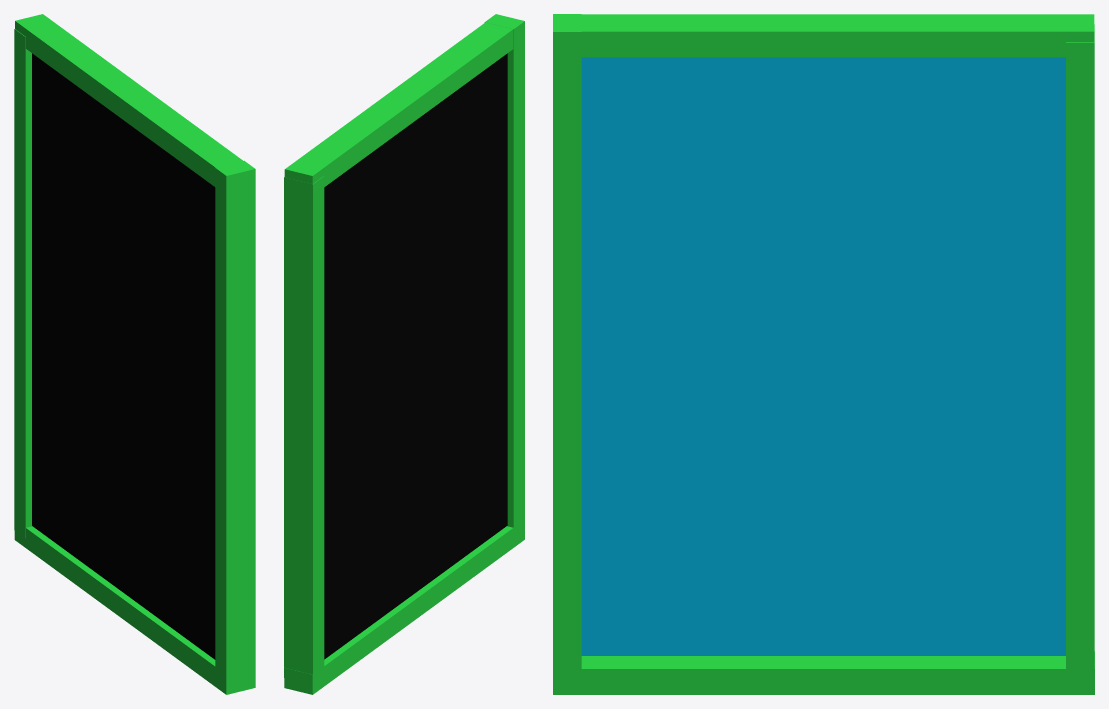
Rendered from Window.fbx.
3 renders of one model, left to right at view 1: azimuth 30°, elevation 25°; view 2: azimuth 150°, elevation 25°; view 3: azimuth 270°, elevation 25°, orthographic. The views are drawn at different scales.
Visible parts, largest first — view 1: Plane, Cube.001; view 2: Plane, Cube.001; view 3: Cube.001.
Boxes of the visible parts, left/top/right/bottom form: Plane: left=32, top=53, right=215, bottom=659; Cube.001: left=14, top=14, right=255, bottom=694; Plane: left=324, top=53, right=507, bottom=659; Cube.001: left=284, top=14, right=524, bottom=694; Cube.001: left=553, top=14, right=1094, bottom=694.
Bounding box in the file's own units: 6 × 102 × 75.87.
